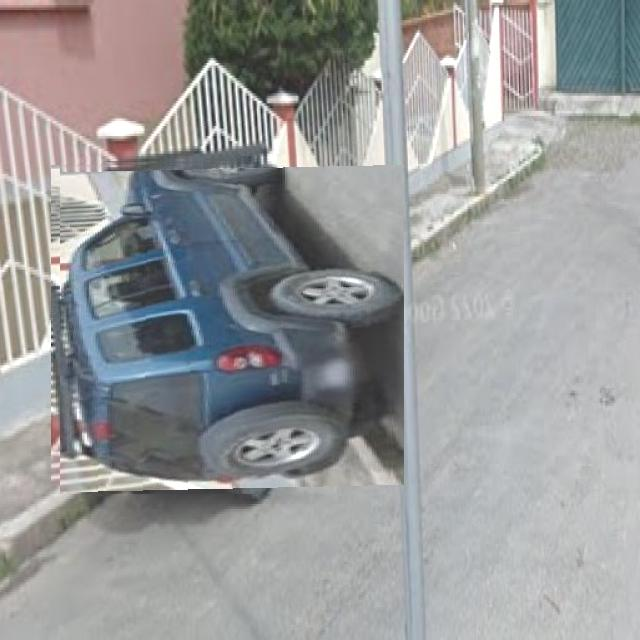car: (61, 157, 397, 495)
